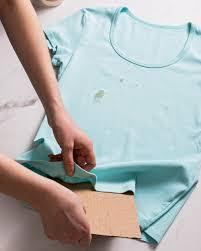mustard: (84, 85, 106, 106), (132, 79, 144, 92), (117, 76, 123, 83)
